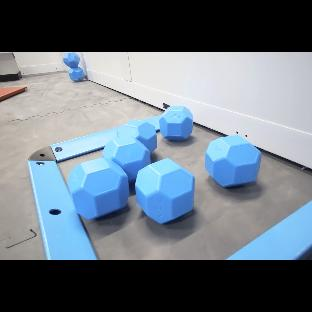V5_BLUE: (228, 201, 312, 260), (135, 158, 194, 224), (67, 158, 129, 220), (205, 135, 261, 187), (102, 136, 150, 183), (117, 120, 157, 153), (159, 106, 193, 141)
